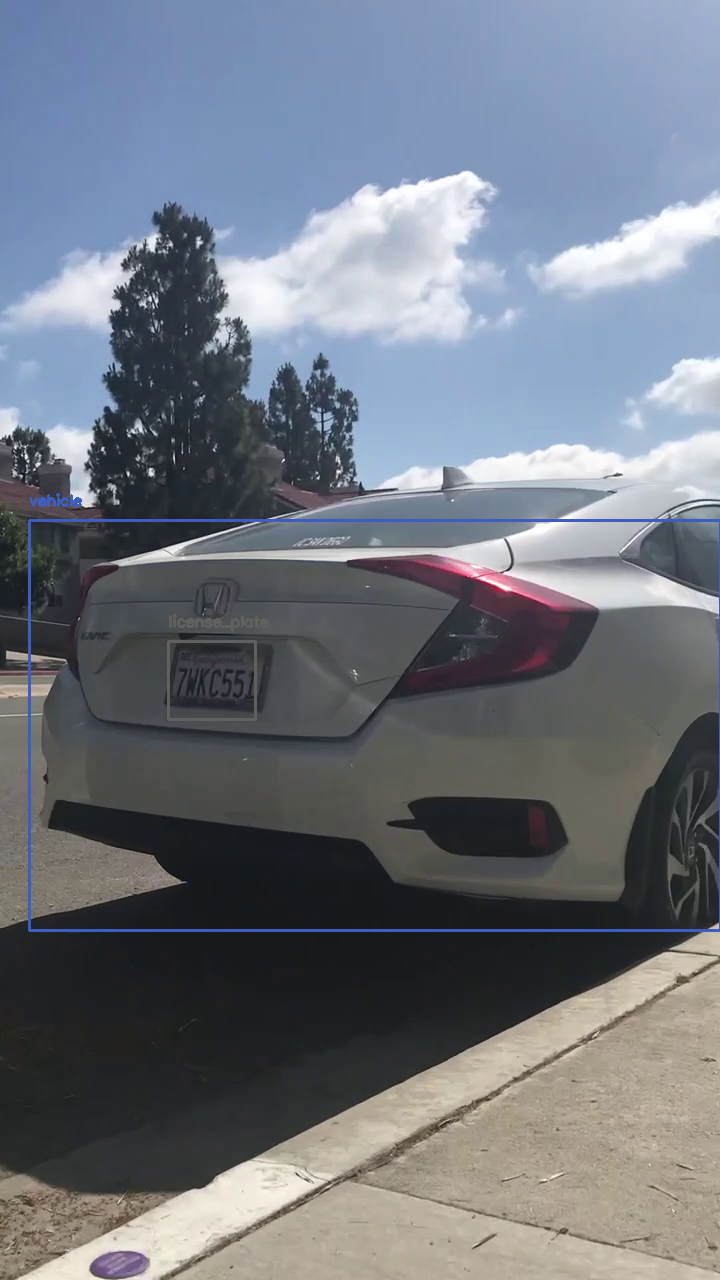license_plate: (168, 641, 255, 719)
vehicle: (29, 520, 720, 930)
